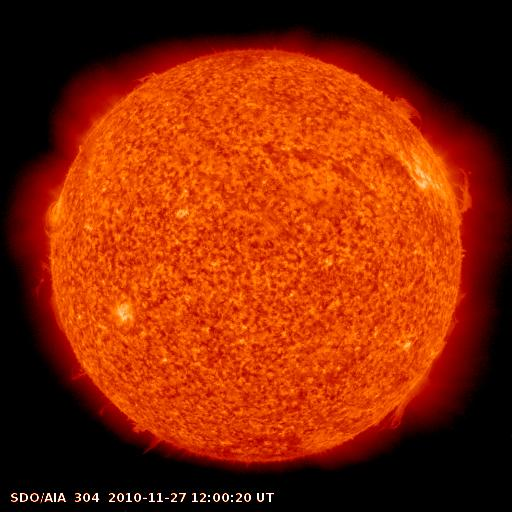prominence: (373, 284, 468, 434), (92, 398, 166, 457), (438, 143, 490, 226), (378, 74, 440, 134), (26, 243, 67, 307), (109, 66, 169, 100), (63, 361, 100, 390)
